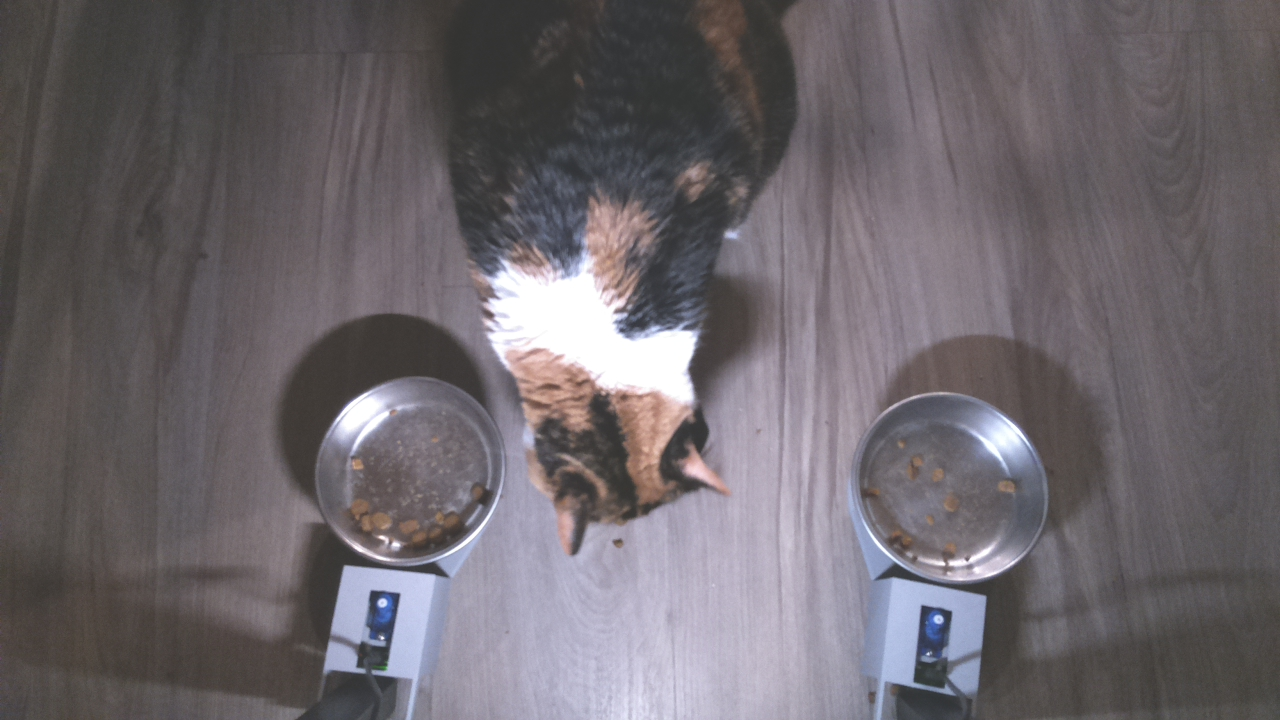bella: (494, 270, 736, 575)
open_bowl: (850, 392, 1056, 585), (316, 375, 514, 569)
